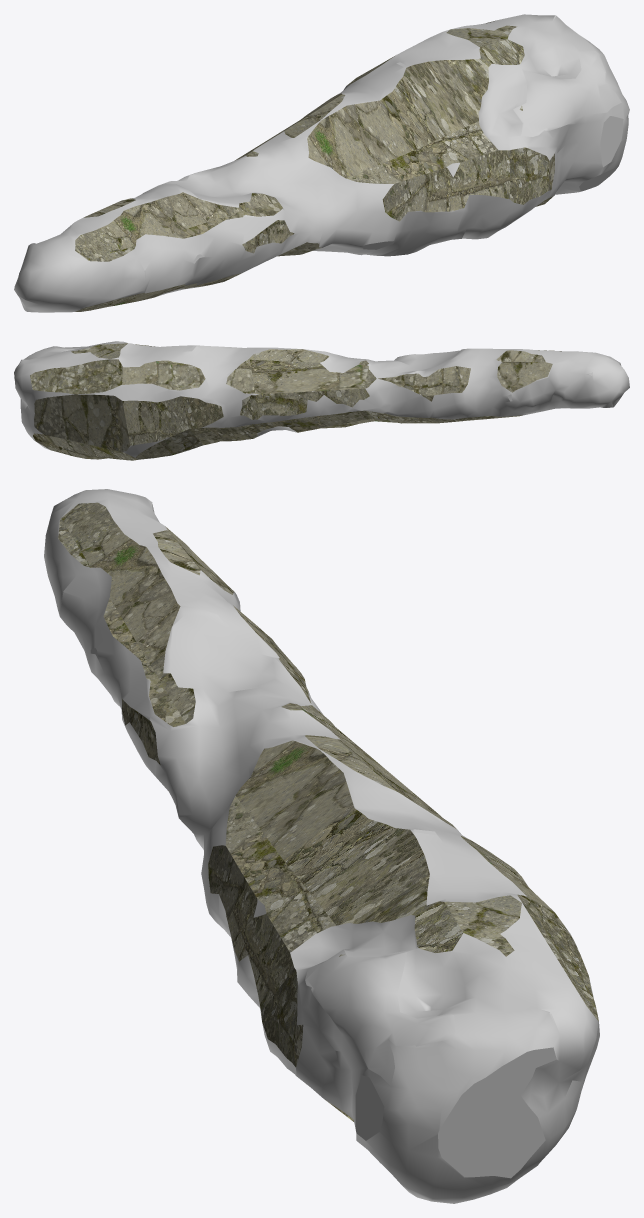
Rendered from SM_Chateaux_03_08.fbx.
3 views of the same model, one above another, from view 1: azimuth 30°, elevation 25°; view 2: azimuth 150°, elevation 25°; view 3: azimuth 270°, elevation 25° (orthographic). The views are drawn at different scales.
Visible parts, largest first — view 1: SM_Chateaux_03_08; view 2: SM_Chateaux_03_08; view 3: SM_Chateaux_03_08.
Part boxes in pixels (x1=…): SM_Chateaux_03_08: x1=14, y1=14, x2=629, y2=312; SM_Chateaux_03_08: x1=14, y1=341, x2=629, y2=460; SM_Chateaux_03_08: x1=44, y1=489, x2=599, y2=1203.
Bounding box in the file's own units: 1820 × 462 × 860.
